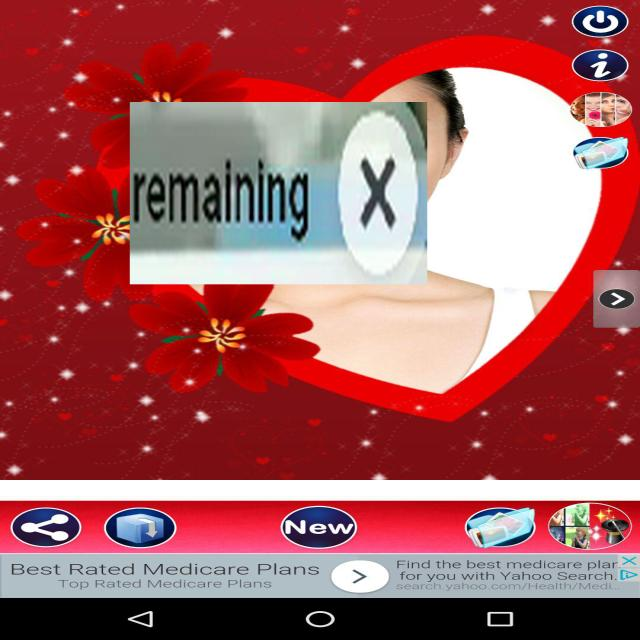misdirection: (130, 102, 427, 284)
